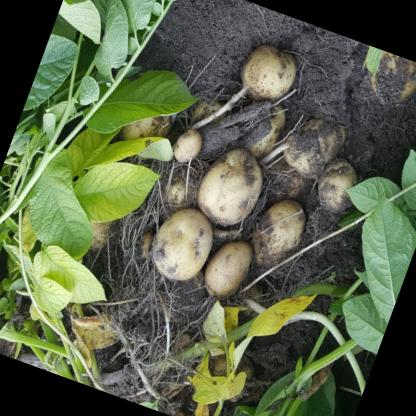potato: (188, 138, 274, 236), (143, 200, 221, 289), (242, 189, 312, 277), (275, 105, 351, 186), (230, 36, 302, 112), (197, 230, 258, 306), (310, 152, 364, 217)
